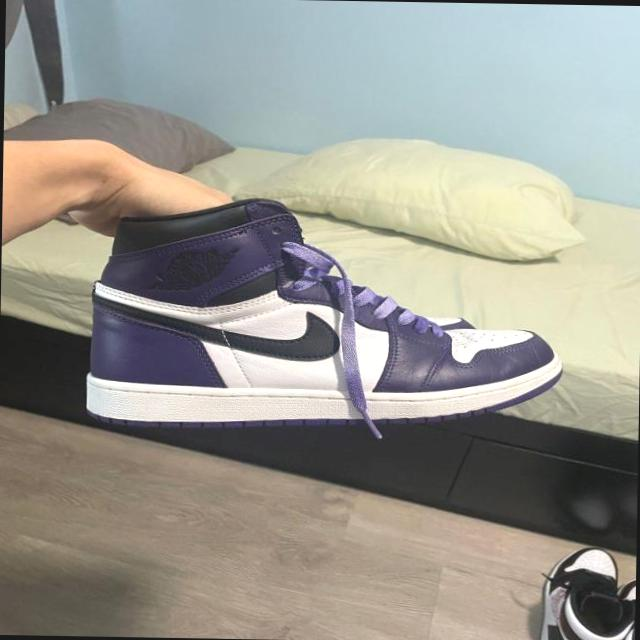nike_original_jordan: (75, 195, 566, 436)
